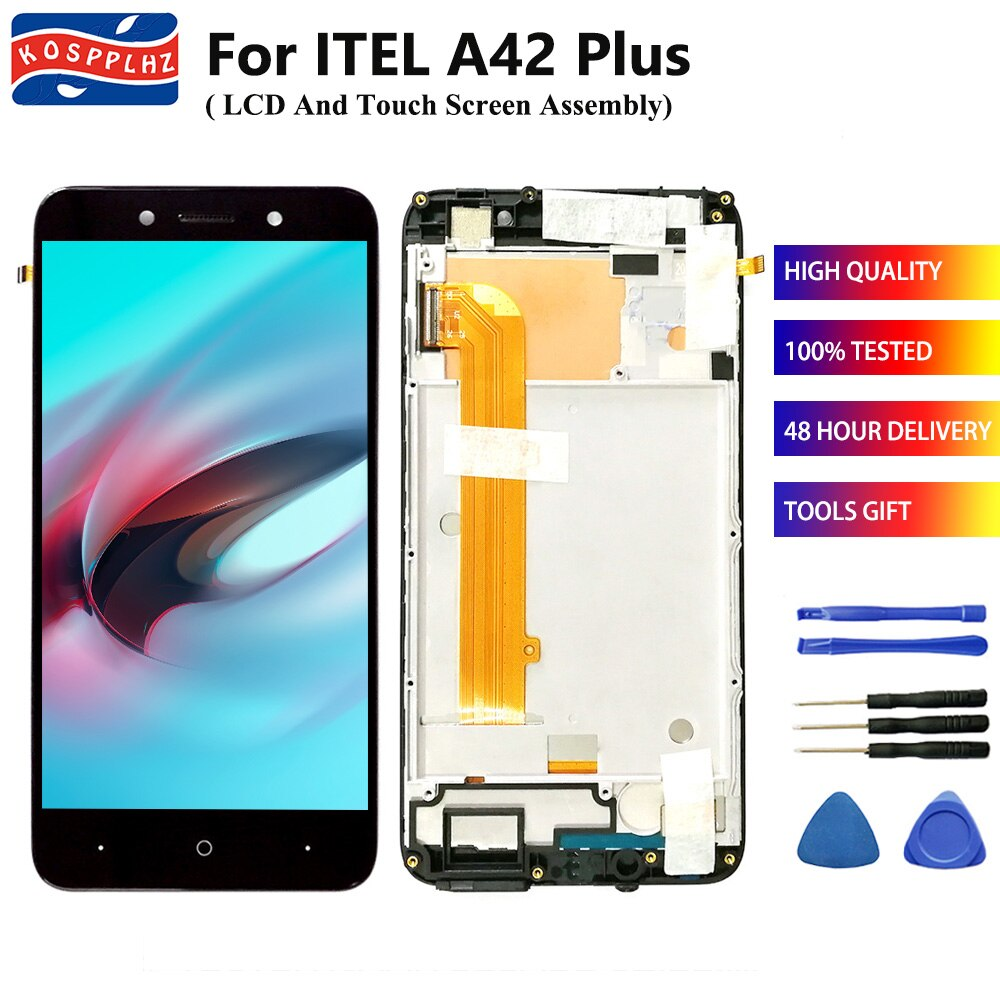Phone: (27, 181, 383, 897), (397, 186, 752, 895)
